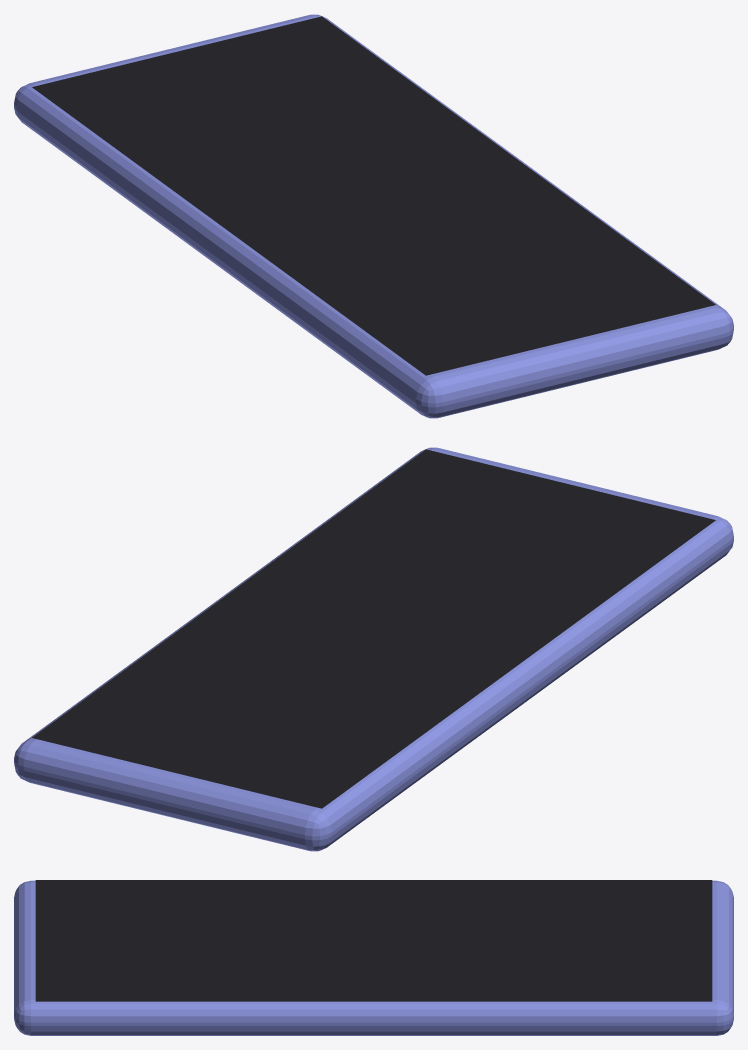
File: samsung-galaxy-s24-ultra-2024.glb
3 views of the same model, one above another, from view 1: azimuth 30°, elevation 25°; view 2: azimuth 150°, elevation 25°; view 3: azimuth 270°, elevation 25° (orthographic). The views are drawn at different scales.
Parts seen in each view (by area): view 1: Phone_Screen, Phone_Body; view 2: Phone_Screen, Phone_Body; view 3: Phone_Screen, Phone_Body.
Part boxes in pixels (box(x1,y1,x2,y2)): Phone_Screen: box(32, 16, 715, 375); Phone_Body: box(14, 14, 733, 418); Phone_Screen: box(32, 449, 715, 808); Phone_Body: box(14, 447, 733, 851); Phone_Screen: box(35, 880, 712, 1001); Phone_Body: box(14, 880, 733, 1035).
Size of the model in its own units: 0.071 by 0.0087 by 0.1635.
